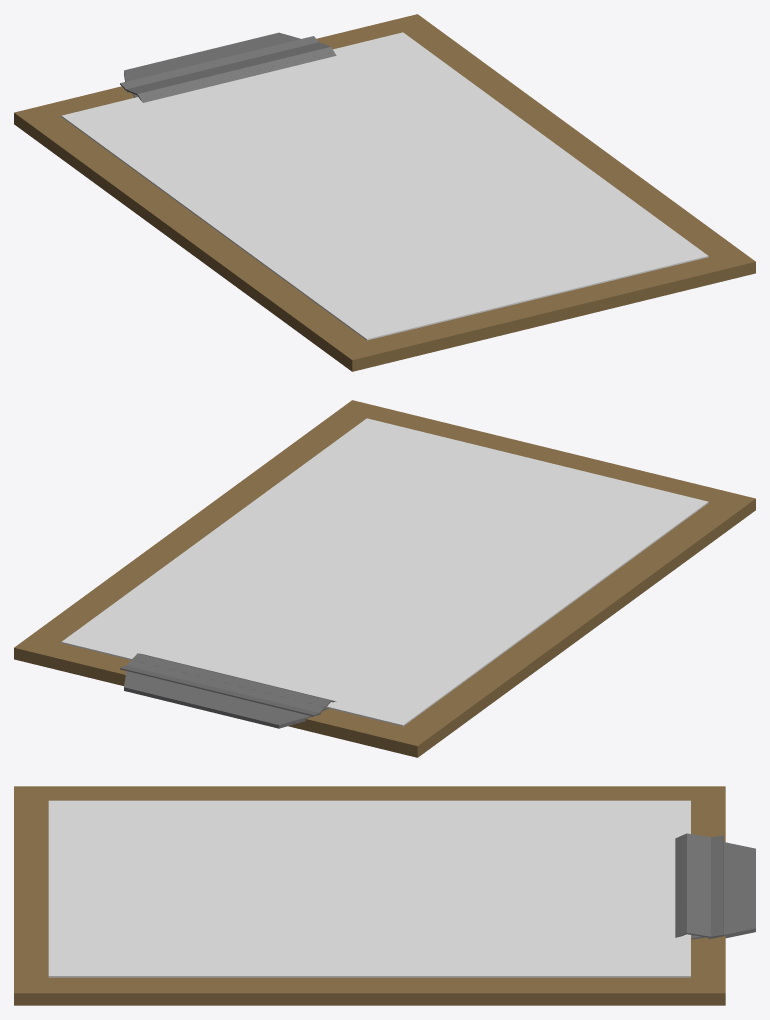
The model's file is clipboard.fbx.
The picture shows the model from 3 angles, top to bottom: view 1: azimuth 30°, elevation 25°; view 2: azimuth 150°, elevation 25°; view 3: azimuth 270°, elevation 25°; orthographic projection. The views are drawn at different scales.
Visible parts, largest first — view 1: Cube; view 2: Cube; view 3: Cube.
Boxes of the visible parts, left/top/right/bottom form: Cube: left=14, top=14, right=755, bottom=371; Cube: left=14, top=400, right=755, bottom=757; Cube: left=14, top=786, right=755, bottom=1005.
Bounding box in the file's own units: 236 × 10.13 × 358.
